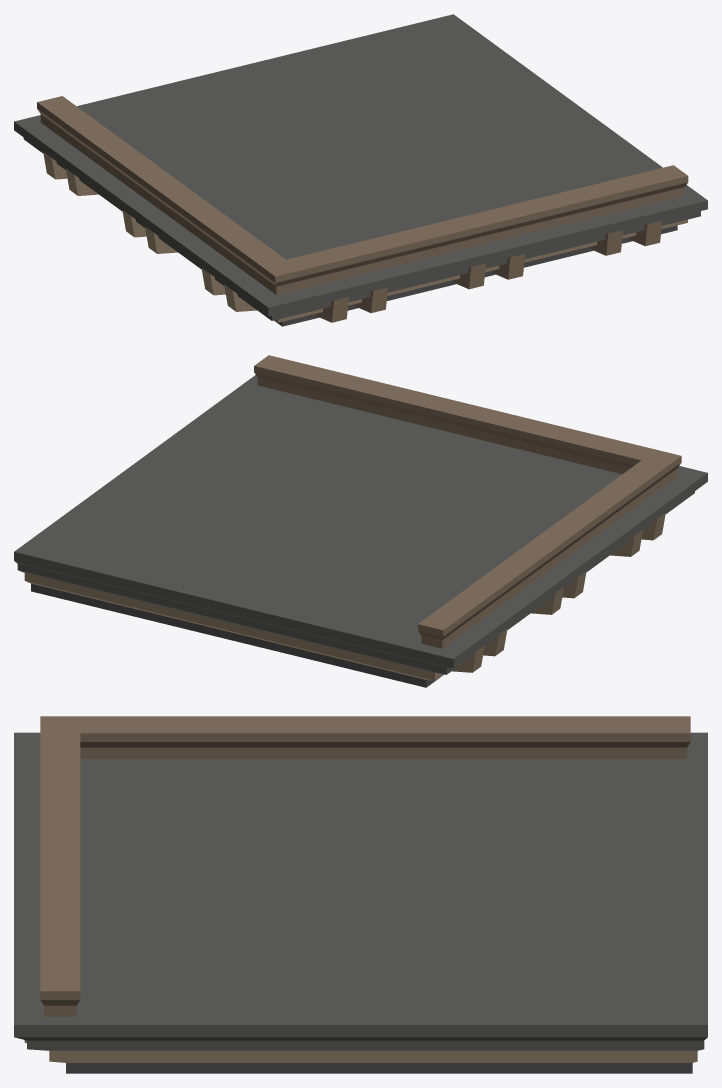
The model's file is SM_Bld_Apartment_Roof_Corner_02.fbx.
3 renders of one model, top to bottom at view 1: azimuth 30°, elevation 25°; view 2: azimuth 150°, elevation 25°; view 3: azimuth 270°, elevation 25°, orthographic. The views are drawn at different scales.
Parts seen in each view (by area): view 1: SM_Bld_Apartment_Roof_Corner_02; view 2: SM_Bld_Apartment_Roof_Corner_02; view 3: SM_Bld_Apartment_Roof_Corner_02.
Part boxes in pixels (<box>): SM_Bld_Apartment_Roof_Corner_02: <box>14,14,707,326</box>; SM_Bld_Apartment_Roof_Corner_02: <box>14,355,707,687</box>; SM_Bld_Apartment_Roof_Corner_02: <box>14,716,707,1073</box>.
Bounding box in the file's own units: 561 × 74.35 × 562.
